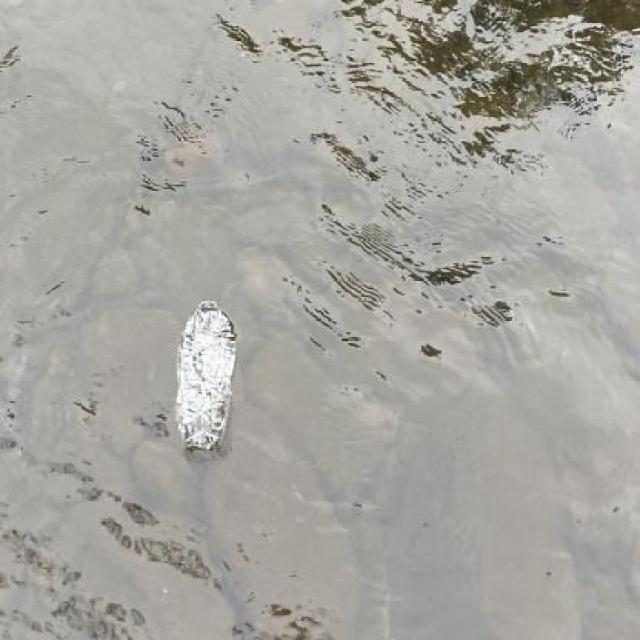Plastic: (165, 287, 243, 460)
